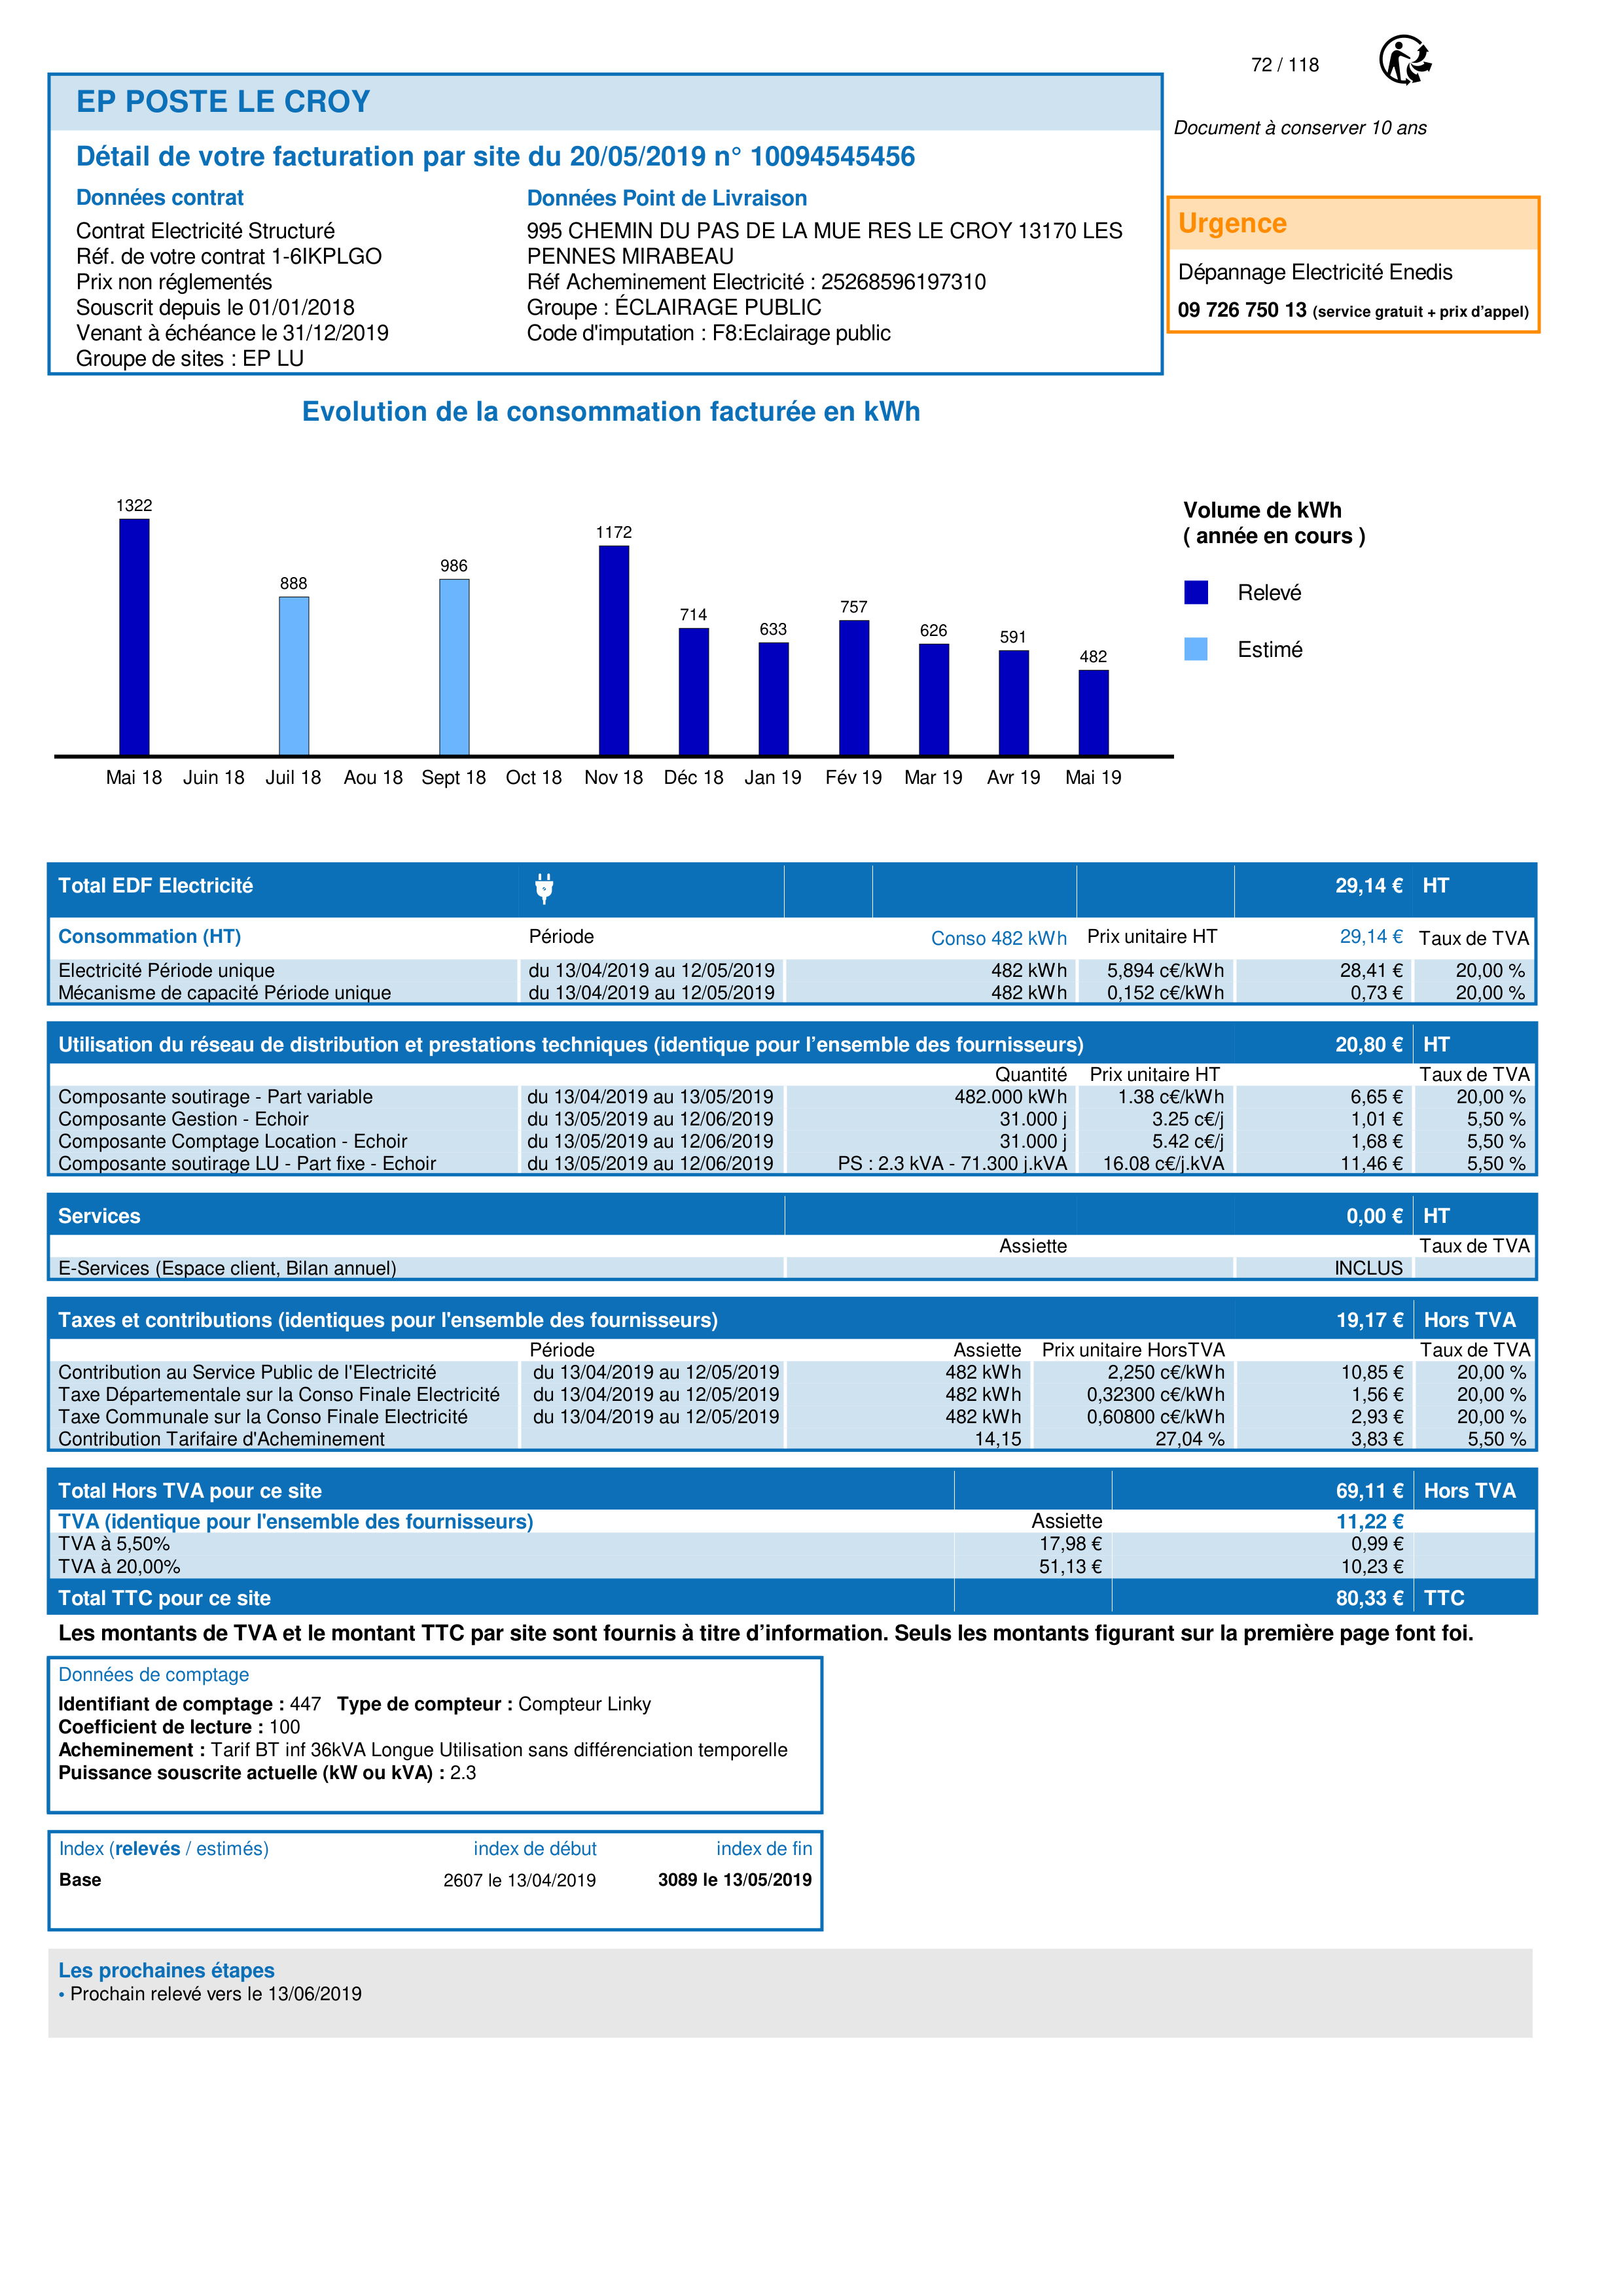area: (49, 1831, 824, 1932)
type_indicator: (49, 1829, 279, 1865)
